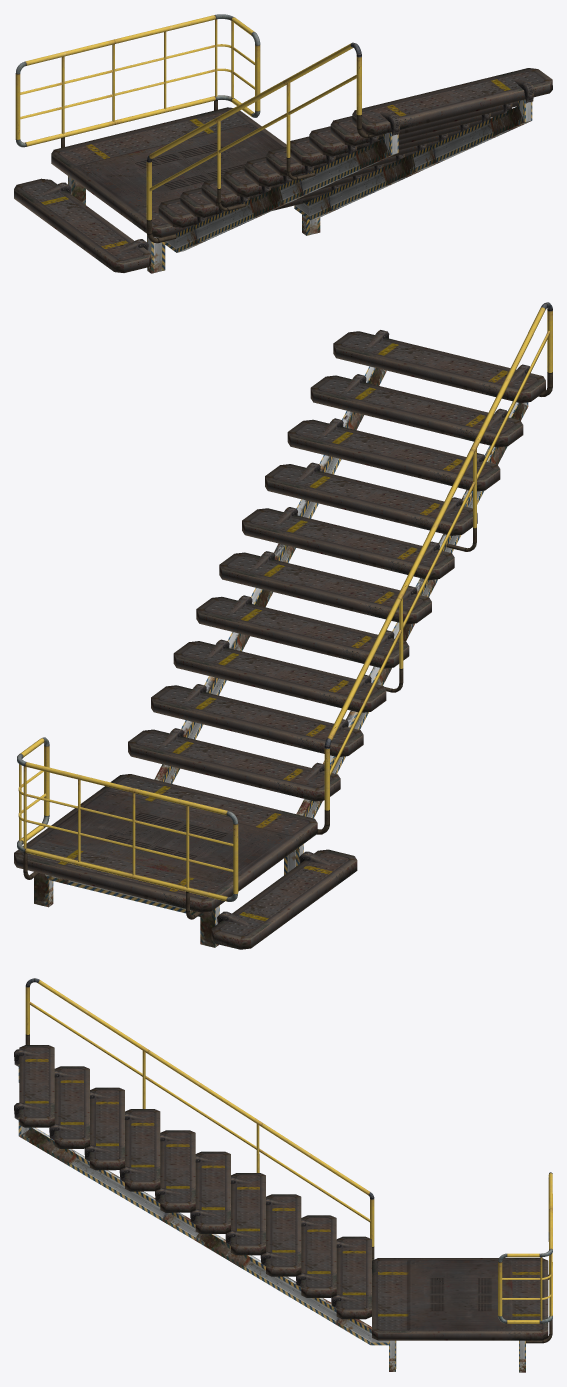
File: FLO_Stairs_ToLeft.FBX
The picture shows the model from 3 angles, top to bottom: view 1: azimuth 30°, elevation 25°; view 2: azimuth 150°, elevation 25°; view 3: azimuth 270°, elevation 25°; orthographic projection. The views are drawn at different scales.
Visible parts, largest first — view 1: FLO_Stairs_ToLeft_Steps, FLO_Stairs_ToLeft_Banister; view 2: FLO_Stairs_ToLeft_Steps, FLO_Stairs_ToLeft_Banister; view 3: FLO_Stairs_ToLeft_Steps, FLO_Stairs_ToLeft_Banister.
Part boxes in pixels (x1,y1,x2,y2): FLO_Stairs_ToLeft_Steps: (14, 68, 552, 273); FLO_Stairs_ToLeft_Banister: (15, 14, 385, 243); FLO_Stairs_ToLeft_Steps: (14, 330, 545, 949); FLO_Stairs_ToLeft_Banister: (17, 302, 552, 919); FLO_Stairs_ToLeft_Steps: (14, 1045, 548, 1372); FLO_Stairs_ToLeft_Banister: (25, 978, 552, 1343).
Size of the model in its own units: 300 by 502 by 765.
Materials: 2 (2 with a texture image).
